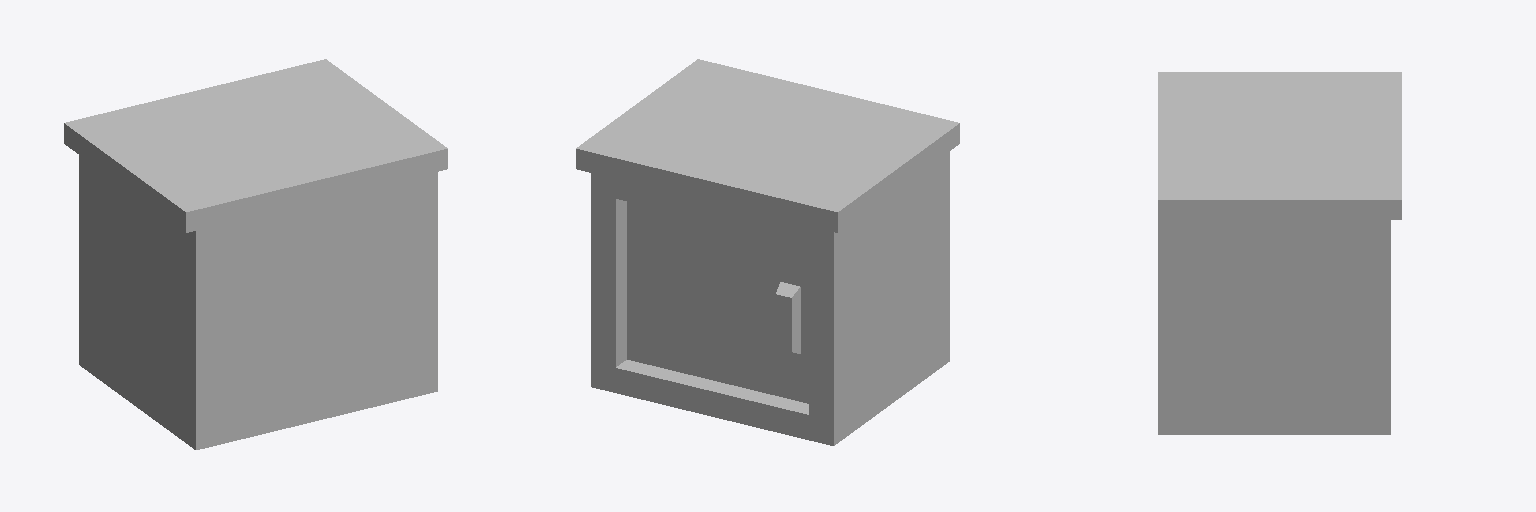
The model's file is cabinetBed.obj.
3 views of the same model, side by side, from view 1: azimuth 30°, elevation 25°; view 2: azimuth 150°, elevation 25°; view 3: azimuth 270°, elevation 25° (orthographic).
Parts seen in each view (by area): view 1: cabinetBed; view 2: cabinetBed, door 1; view 3: cabinetBed.
Part boxes in pixels (bbox=[...]): cabinetBed: bbox=[64, 59, 447, 449]; cabinetBed: bbox=[576, 59, 959, 445]; door 1: bbox=[627, 202, 808, 403]; cabinetBed: bbox=[1158, 72, 1401, 434].
Size of the model in its own units: 2.66 by 2.33 by 2.15.